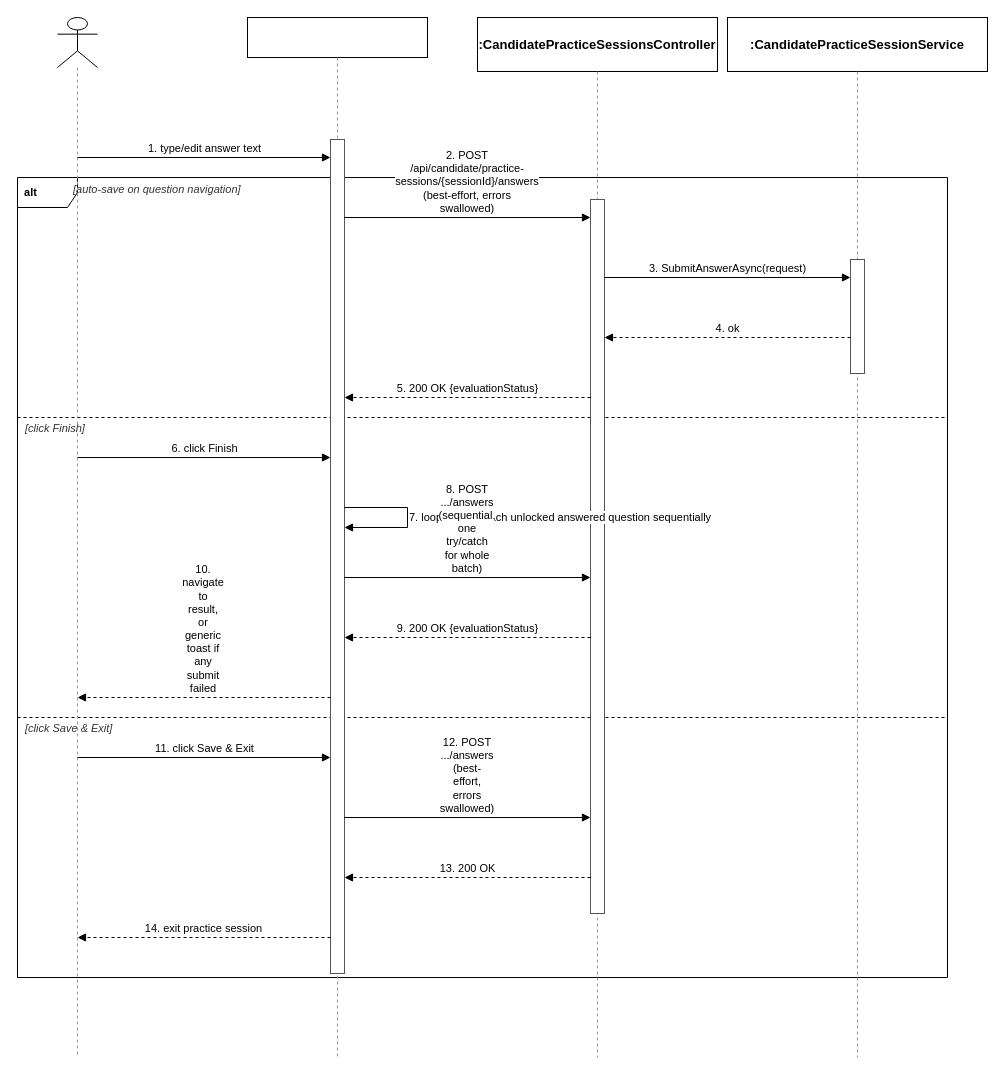
The diagram is 1005 pixels wide and 1076 high, and some of its shapes have lost their labels. The shapes that lost their labels are listed below. From the top down, each one's centre as x and y in pixels, then its label:
[77,42]: Job Seeker
[337,37]: :PracticeSessionUI
